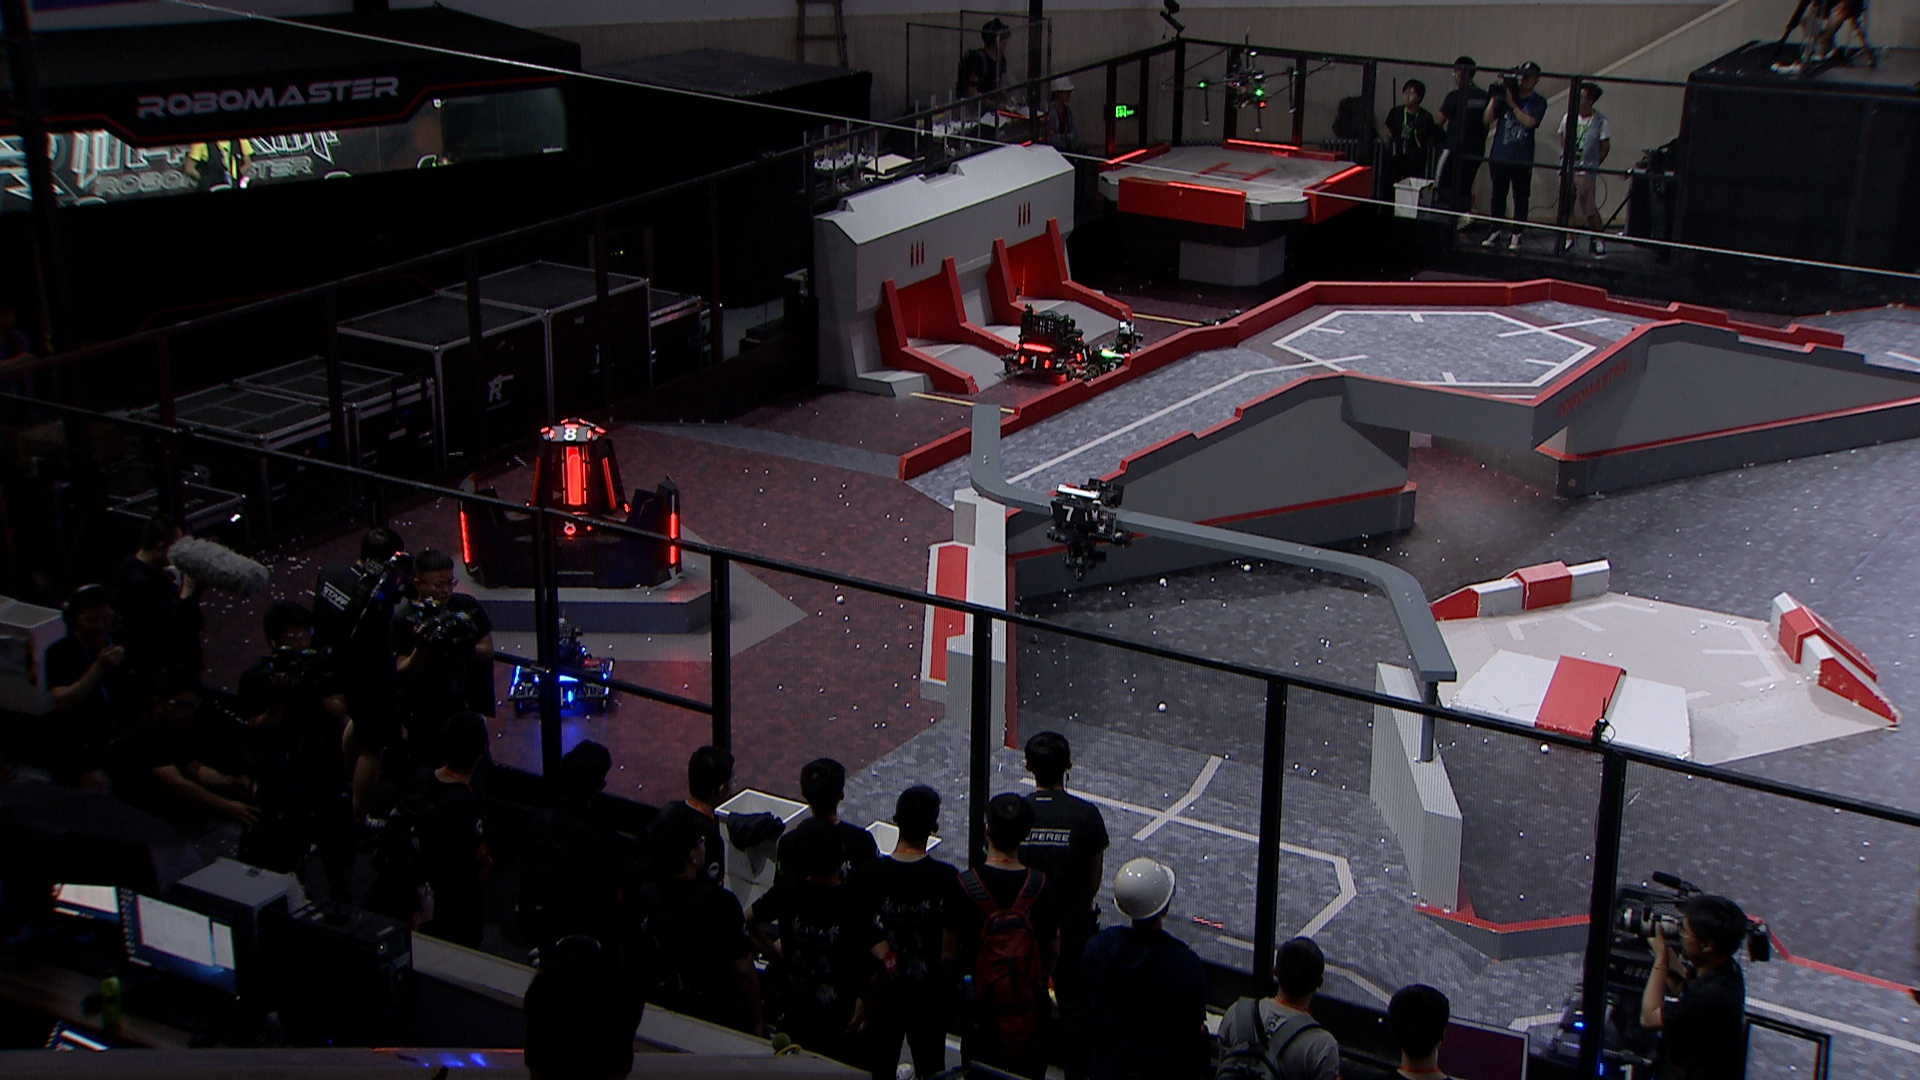armor: (560, 443, 585, 509), (1596, 1059, 1650, 1080), (603, 456, 621, 512), (458, 509, 475, 567), (1048, 504, 1092, 526), (666, 516, 684, 567), (529, 455, 545, 509), (547, 425, 595, 442), (1017, 352, 1054, 373), (555, 520, 593, 538), (1073, 347, 1095, 365), (1102, 361, 1122, 375)
base: (454, 419, 686, 591)
car: (1539, 877, 1747, 1080), (506, 615, 621, 721), (1000, 305, 1097, 384), (1087, 323, 1166, 389)
watcher: (1044, 476, 1133, 579)
